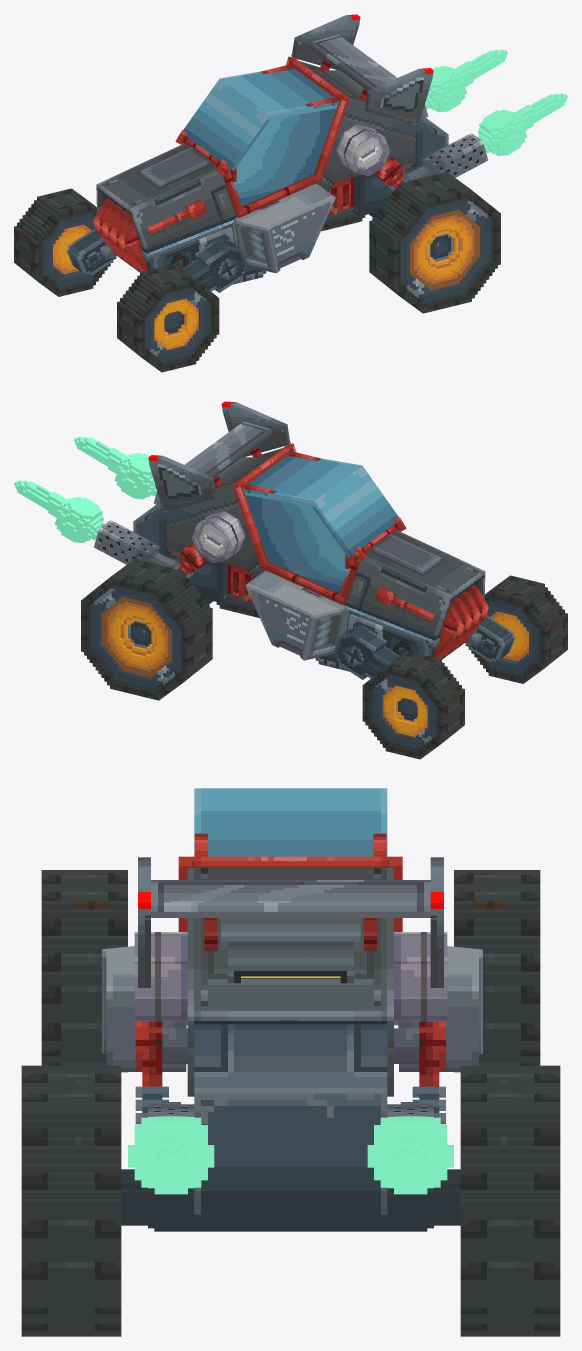
The model's file is 汽车模板-1.gltf.
3 views of the same model, one above another, from view 1: azimuth 30°, elevation 25°; view 2: azimuth 150°, elevation 25°; view 3: azimuth 270°, elevation 25° (orthographic). The views are drawn at different scales.
Parts seen in each view (by area): view 1: 车身, 后轮, 前轮, Group-2, Group, 喷气, Group-1, Group-4, 后轮避震器; view 2: 车身, 后轮, 前轮, Group-2, Group, 喷气, Group-1, Group-4, 后轮避震器; view 3: 车身, 后轮, 前轮, Group-2, 喷气, Group (×2), Group-4 (×2), 后轮避震器 (×2), Group-3.
Boxes of the visible parts, left/top/right/bottom form: 车身: left=66, top=56, right=488, bottom=292; 后轮: left=321, top=172, right=500, bottom=313; 前轮: left=14, top=188, right=219, bottom=372; Group-2: left=291, top=14, right=433, bottom=123; Group: left=233, top=183, right=335, bottom=273; 喷气: left=425, top=49, right=567, bottom=156; Group-1: left=93, top=198, right=147, bottom=271; Group-4: left=336, top=124, right=389, bottom=176; 后轮避震器: left=375, top=157, right=407, bottom=191; 车身: left=94, top=443, right=515, bottom=679; 后轮: left=81, top=559, right=259, bottom=700; 前轮: left=362, top=575, right=567, bottom=759; Group-2: left=148, top=401, right=290, bottom=510; Group: left=245, top=570, right=347, bottom=660; 喷气: left=14, top=436, right=156, bottom=543; Group-1: left=434, top=585, right=488, bottom=659; Group-4: left=192, top=511, right=245, bottom=563; 后轮避震器: left=174, top=544, right=206, bottom=578; 车身: left=121, top=788, right=460, bottom=1231; 后轮: left=21, top=1065, right=560, bottom=1336; 前轮: left=41, top=870, right=540, bottom=1072; Group-2: left=138, top=857, right=443, bottom=987; 喷气: left=128, top=1116, right=453, bottom=1194; Group (×2): left=102, top=946, right=482, bottom=1071; Group-4 (×2): left=134, top=932, right=447, bottom=1021; 后轮避震器 (×2): left=135, top=1021, right=445, bottom=1187; Group-3: left=204, top=918, right=377, bottom=950.
Bounding box in the file's own units: 160 × 71.08 × 81.
1 material, 1 textured.
